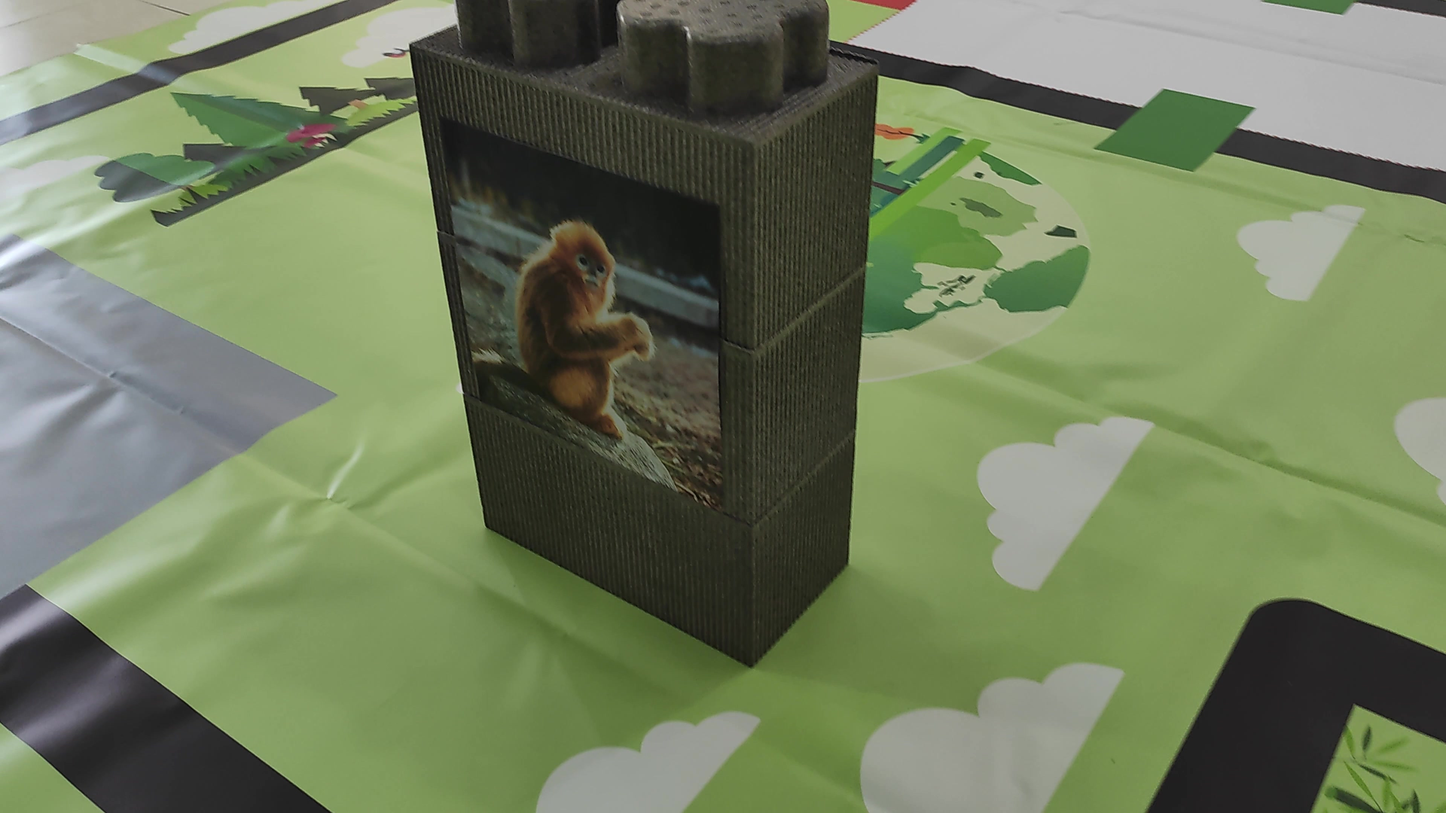monkey: (466, 190, 713, 452)
